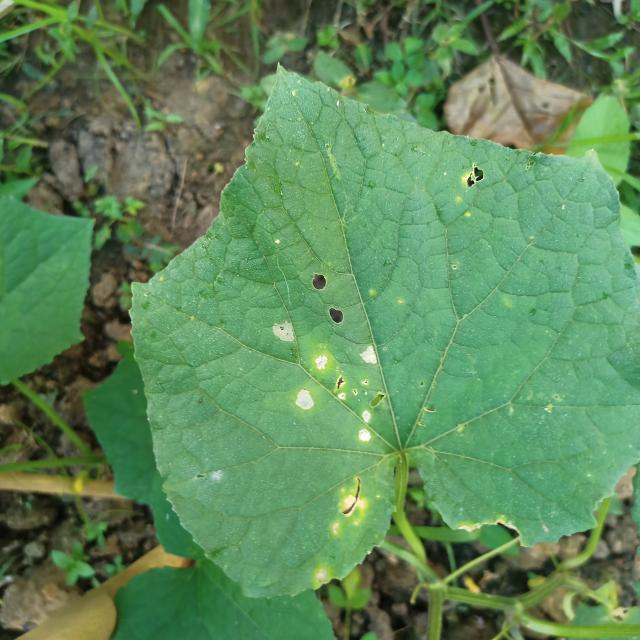disease_cucumber: (260, 318, 399, 457)
